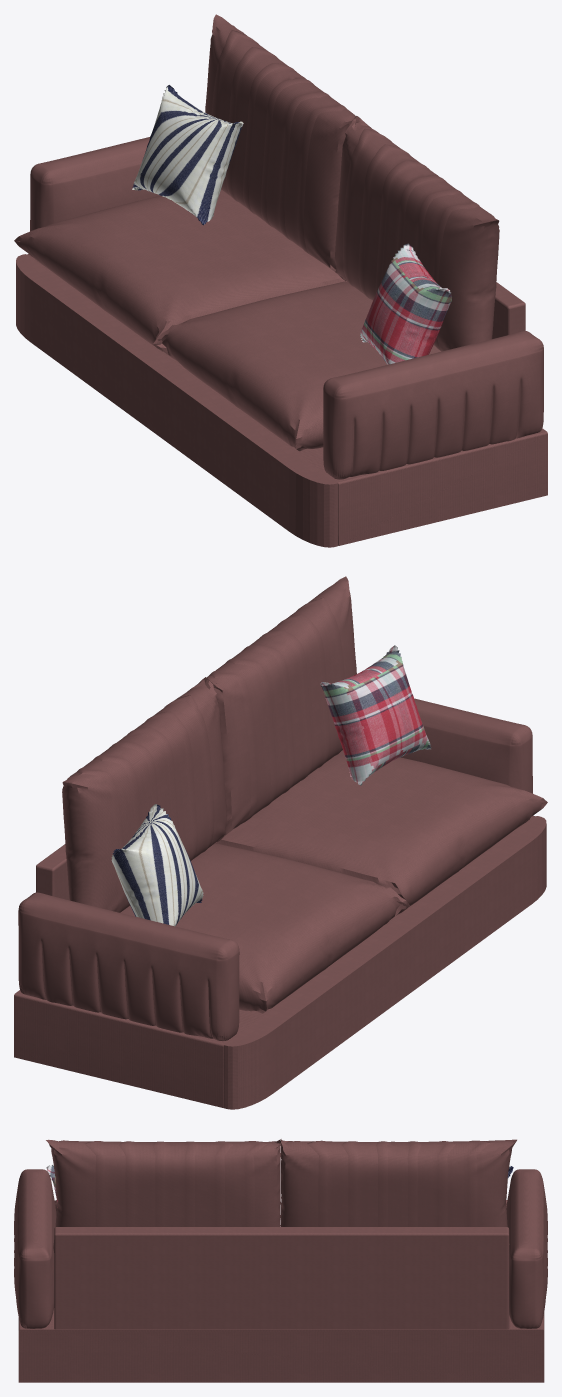
Rendered from sofa003.glb.
3 views of the same model, one above another, from view 1: azimuth 30°, elevation 25°; view 2: azimuth 150°, elevation 25°; view 3: azimuth 270°, elevation 25° (orthographic). The views are drawn at different scales.
Visible parts, largest first — view 1: Plane.002, Plane.004, Plane.008, Plane.007, Plane.006, Plane.005, Plane, Plane.009, Plane.001, Plane.010, Plane.003; view 2: Plane.002, Plane.005, Plane.001, Plane.006, Plane.007, Plane.004, Plane, Plane.010, Plane.008, Plane.009, Plane.003; view 3: Plane.003, Plane, Plane.006, Plane.007, Plane.008, Plane.001.
Boxes of the visible parts, x1,y1,x2,y2 form: Plane.002: (16,254,338,547); Plane.004: (14,190,346,353); Plane.008: (323,331,543,479); Plane.007: (334,116,499,351); Plane.006: (205,14,356,271); Plane.005: (153,281,440,451); Plane: (27,254,547,545); Plane.009: (132,85,243,225); Plane.001: (30,137,160,261); Plane.010: (360,243,451,364); Plane.003: (492,282,525,338); Plane.002: (224,816,546,1109); Plane.005: (215,750,547,905); Plane.001: (18,892,239,1041); Plane.006: (62,677,226,912); Plane.007: (206,576,356,838); Plane.004: (120,843,409,1013); Plane: (14,815,535,1107); Plane.010: (320,645,431,785); Plane.008: (401,698,532,824); Plane.009: (111,804,203,926); Plane.003: (36,844,69,900); Plane.003: (54,1227,509,1329); Plane: (18,1308,544,1382); Plane.006: (281,1139,516,1244); Plane.007: (46,1139,280,1252); Plane.008: (14,1169,56,1328); Plane.001: (506,1169,547,1328).
Bounding box in the file's own units: 0.8034 × 0.8686 × 1.83.
Materials: 3 (3 with a texture image).
